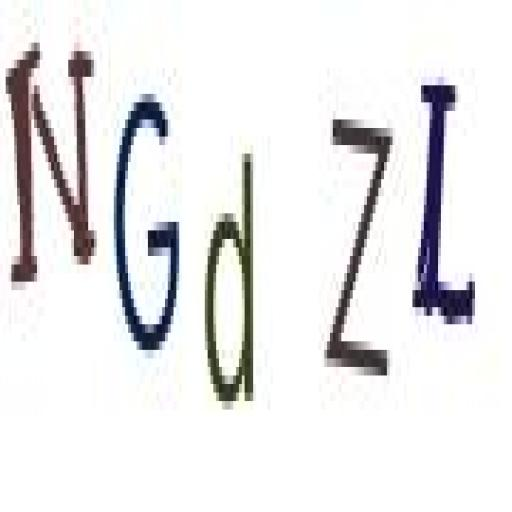G: (108, 86, 183, 362)
L: (408, 70, 484, 340)
N: (1, 35, 103, 296)
Z: (323, 103, 392, 395)
d: (197, 142, 260, 418)
